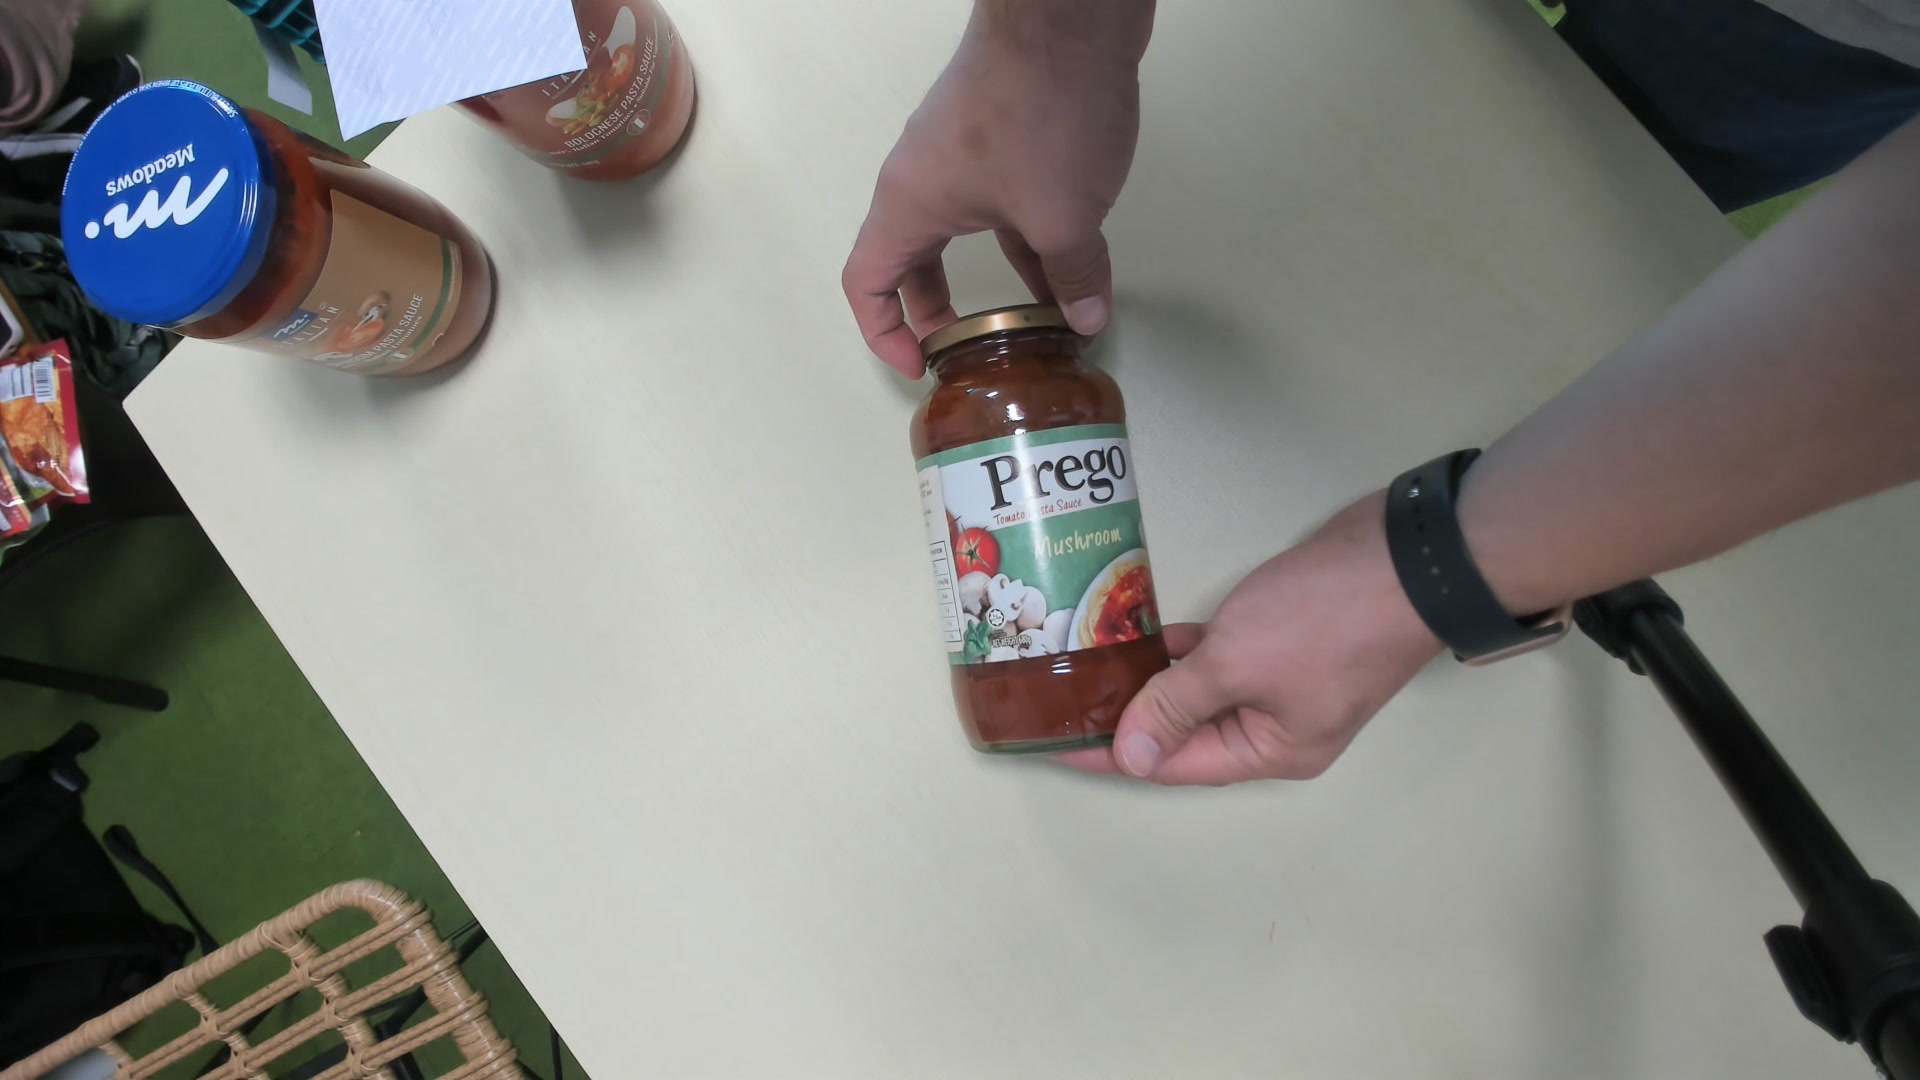PastaSauce_600-699g_Halal_NonHealthy: (909, 303, 1178, 752)
